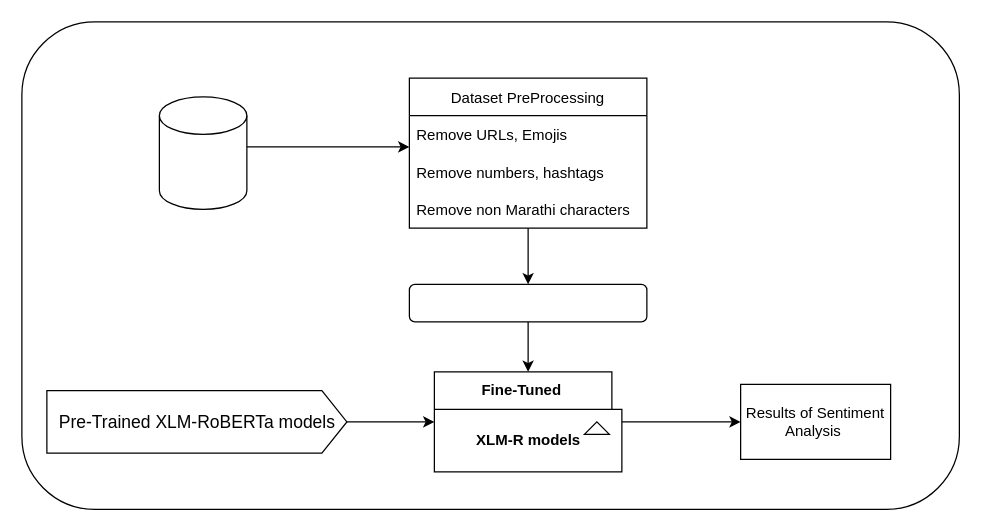
This 981x531 diagram has some shape labels left out. The shapes that lost their labels are listed below. From the top down, each one's centre as x and y in pixels, then its label:
point (202, 152): Marathi Twitter Dataset
point (527, 302): Tokenize Tweets
